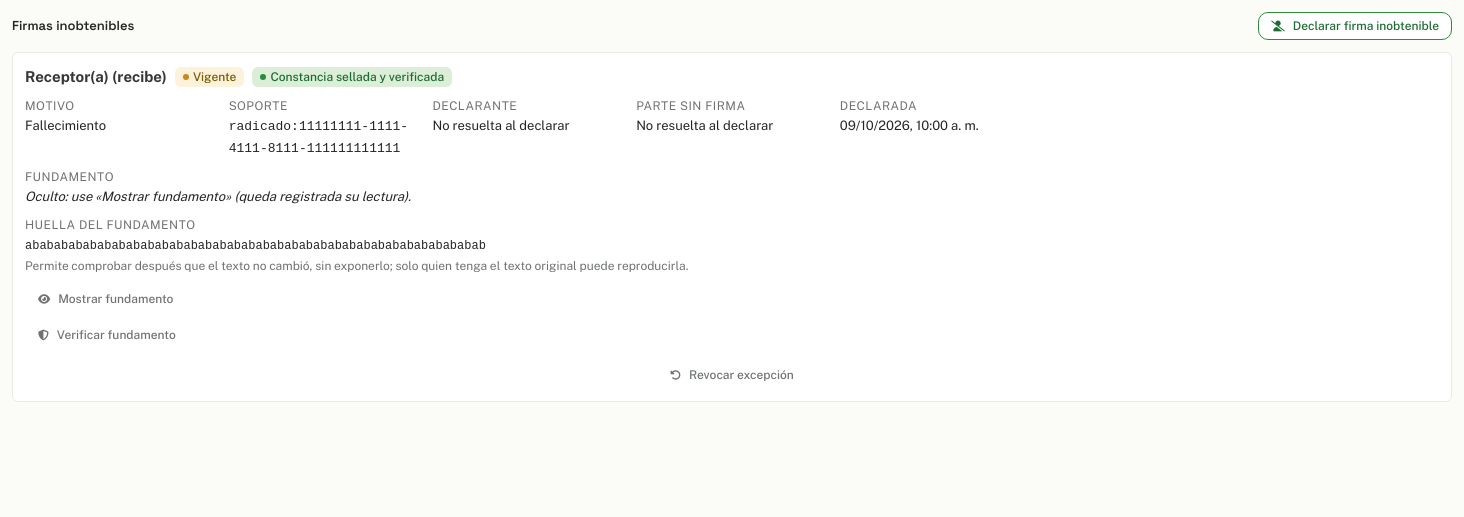
Test case: ExcepcionesFirma — sobre firmado › la verificación del fundamento muestra el sobre como cuarta copia
What coordinates should you click on to do the following:
click the 3rd button named "verificar fundamento"
I would click on:
 (107, 335)
Its box is [25,321,189,349].
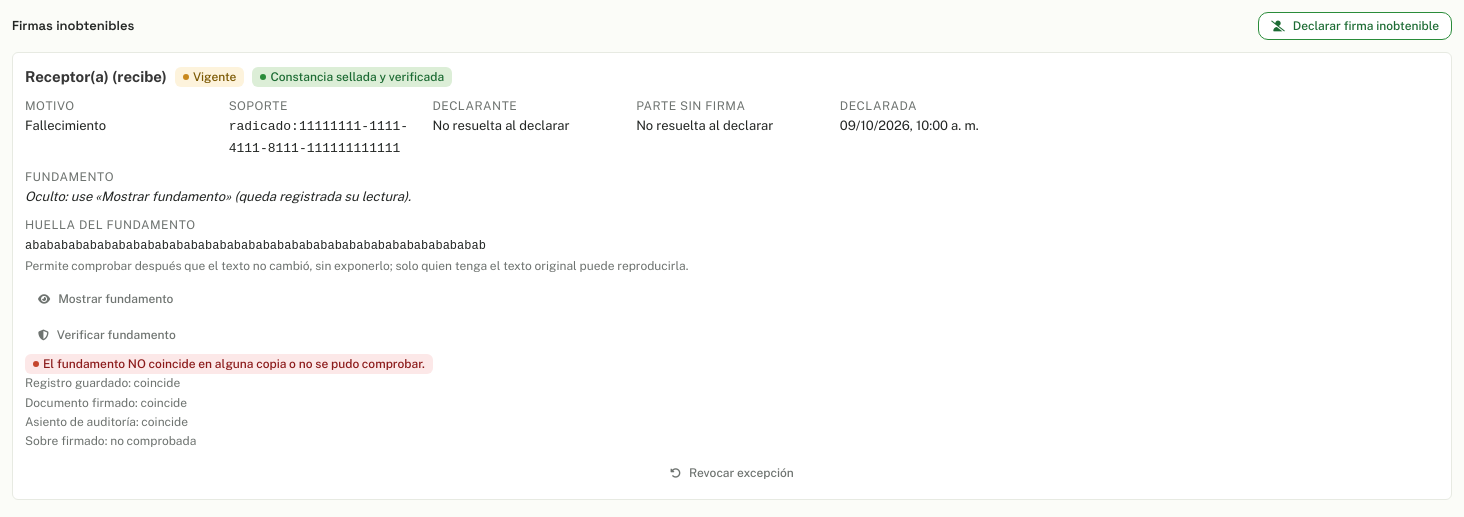
Expected: the list item "Sobre firmado: no comprobada" is shown, [25,434,196,448]
